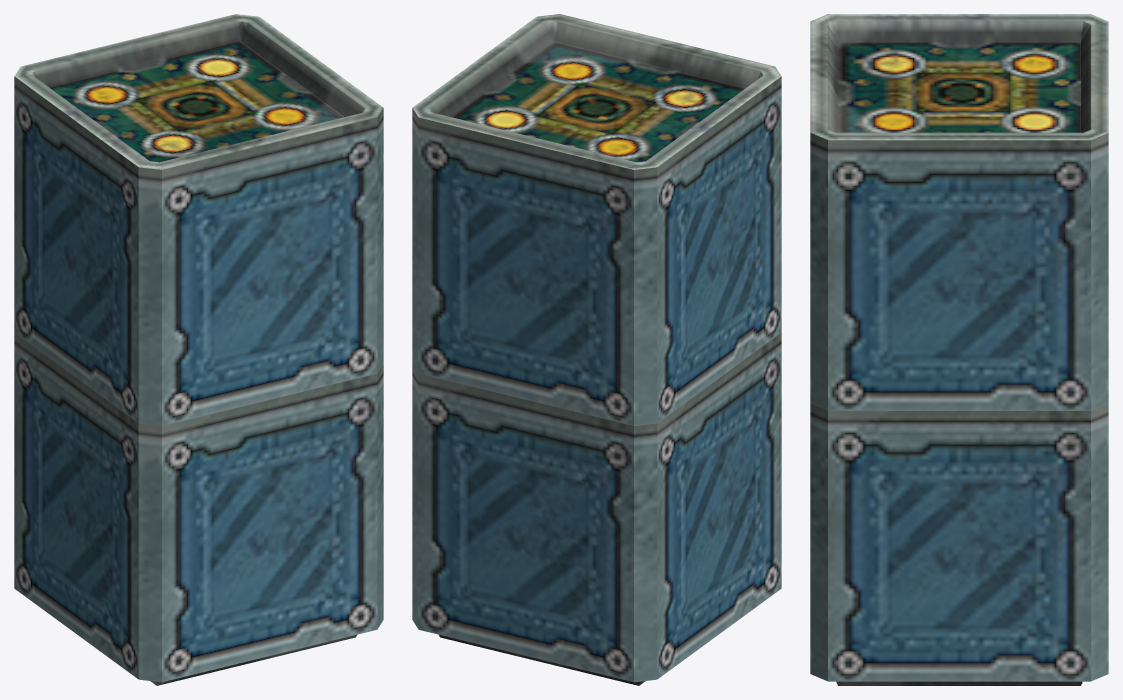
File: Box_big_tall.FBX
The picture shows the model from 3 angles, left to right: view 1: azimuth 30°, elevation 25°; view 2: azimuth 150°, elevation 25°; view 3: azimuth 270°, elevation 25°; orthographic projection. The views are drawn at different scales.
Visible parts, largest first — view 1: Box_big_tall; view 2: Box_big_tall; view 3: Box_big_tall.
Part boxes in pixels (bbox=[...]): Box_big_tall: bbox=[14, 14, 383, 685]; Box_big_tall: bbox=[412, 14, 781, 685]; Box_big_tall: bbox=[810, 14, 1108, 685].
Bounding box in the file's own units: 200 × 412 × 200.
